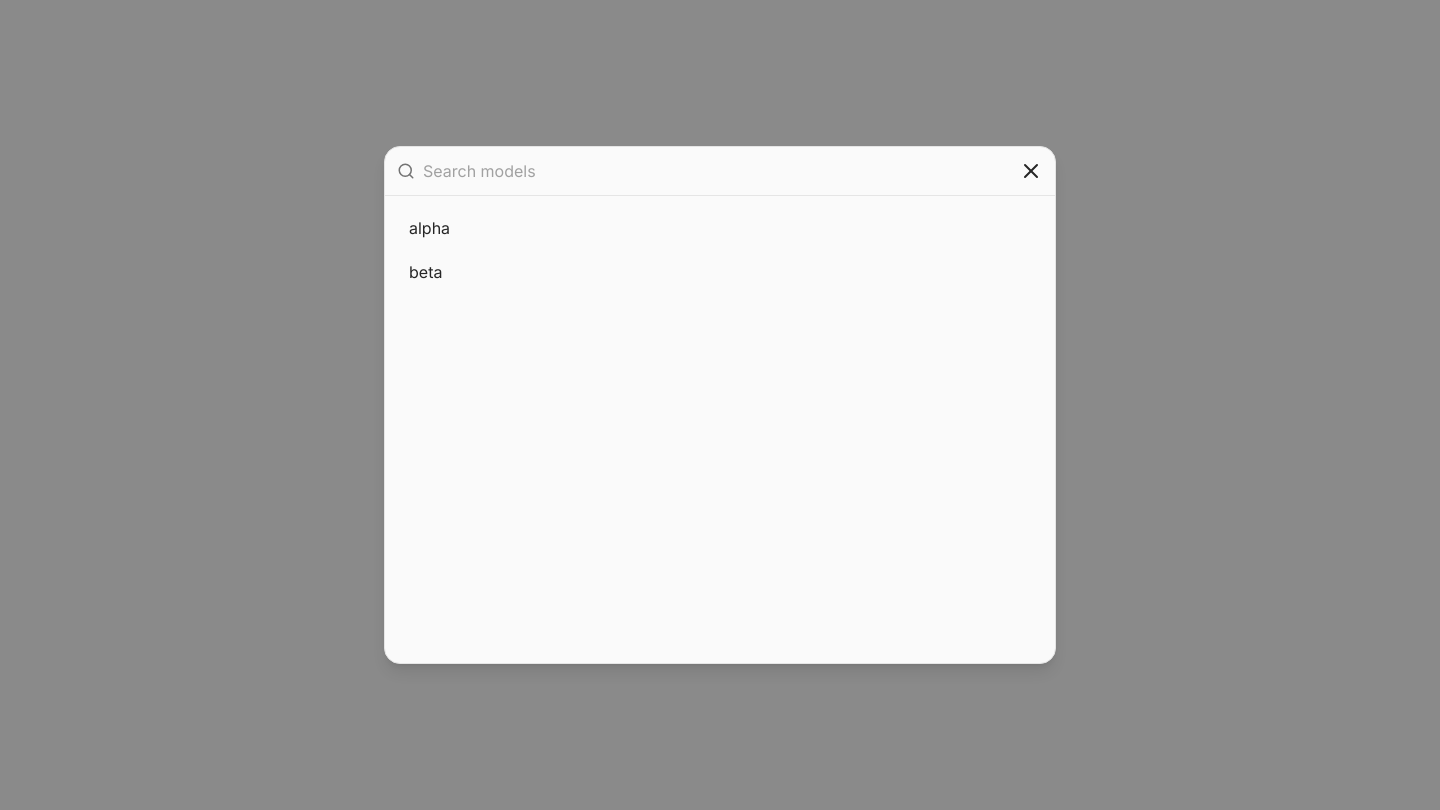
ModelsModal search › filters the model list by the query
The width and height of the screenshot is (1440, 810).
Type "alph" into the field at x=717, y=171, box [423,159,1011,183]
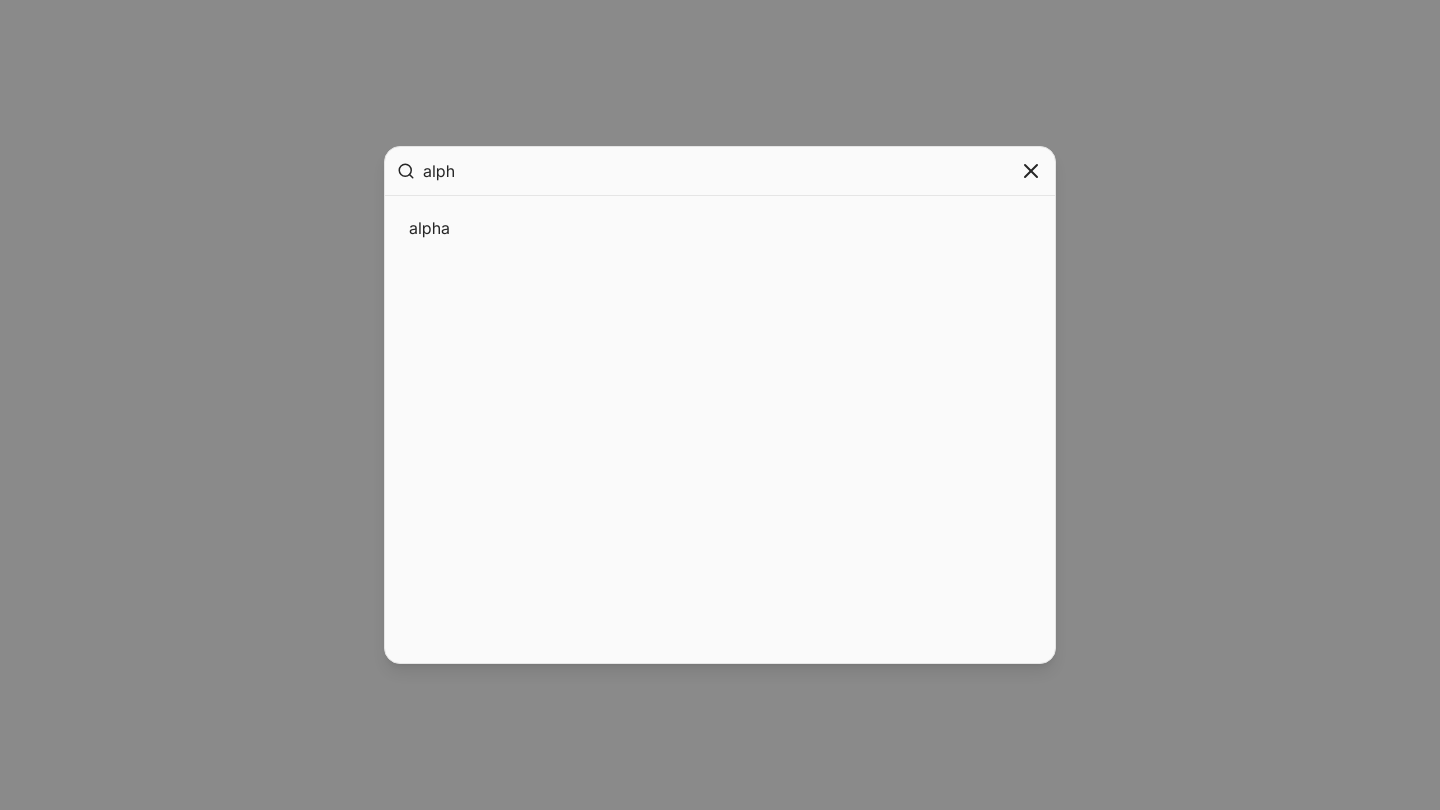
Expected: the button "alpha" is shown, [397,208,1043,248]
Result: the button "beta" is gone
